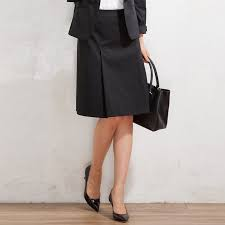F_tailored skirt: (71, 2, 161, 121)
